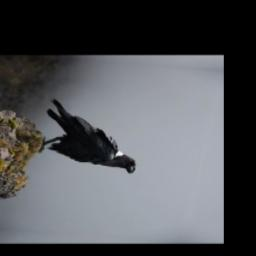Crow: (28, 96, 156, 175)
